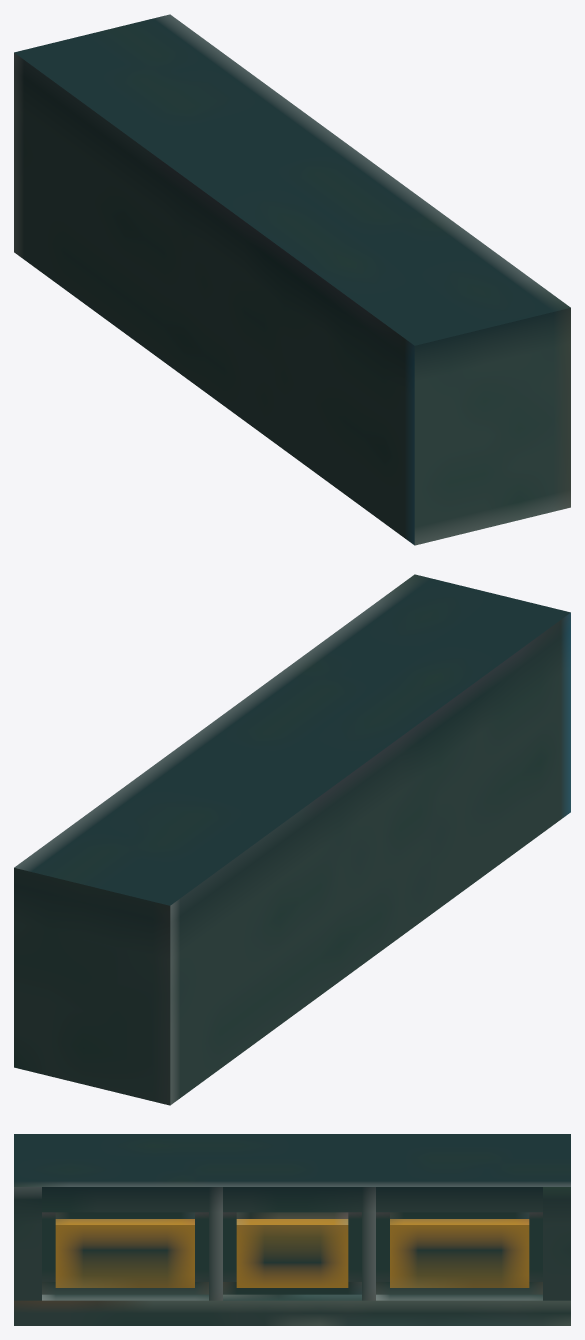
Rendered from BookshelfCabinetBlue_00.obj.
3 views of the same model, one above another, from view 1: azimuth 30°, elevation 25°; view 2: azimuth 150°, elevation 25°; view 3: azimuth 270°, elevation 25° (orthographic). The views are drawn at different scales.
Visible parts, largest first — view 1: BookshelfCabinetBlue_00; view 2: BookshelfCabinetBlue_00; view 3: BookshelfCabinetBlue_00.
Part boxes in pixels (left/top/right/bottom): BookshelfCabinetBlue_00: left=14, top=14, right=570, bottom=545; BookshelfCabinetBlue_00: left=14, top=574, right=570, bottom=1105; BookshelfCabinetBlue_00: left=14, top=1134, right=570, bottom=1325.
Size of the model in its own units: 0.45 by 0.55 by 2.
